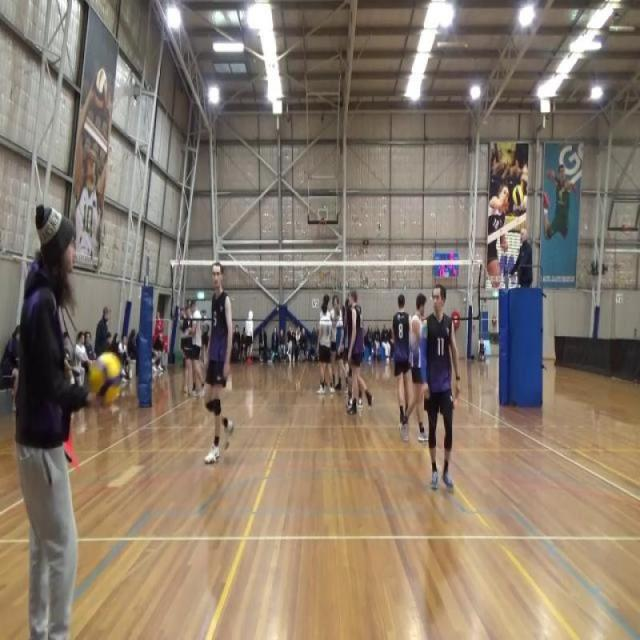volleyball: (88, 344, 121, 406), (94, 65, 106, 111), (512, 183, 523, 208)
